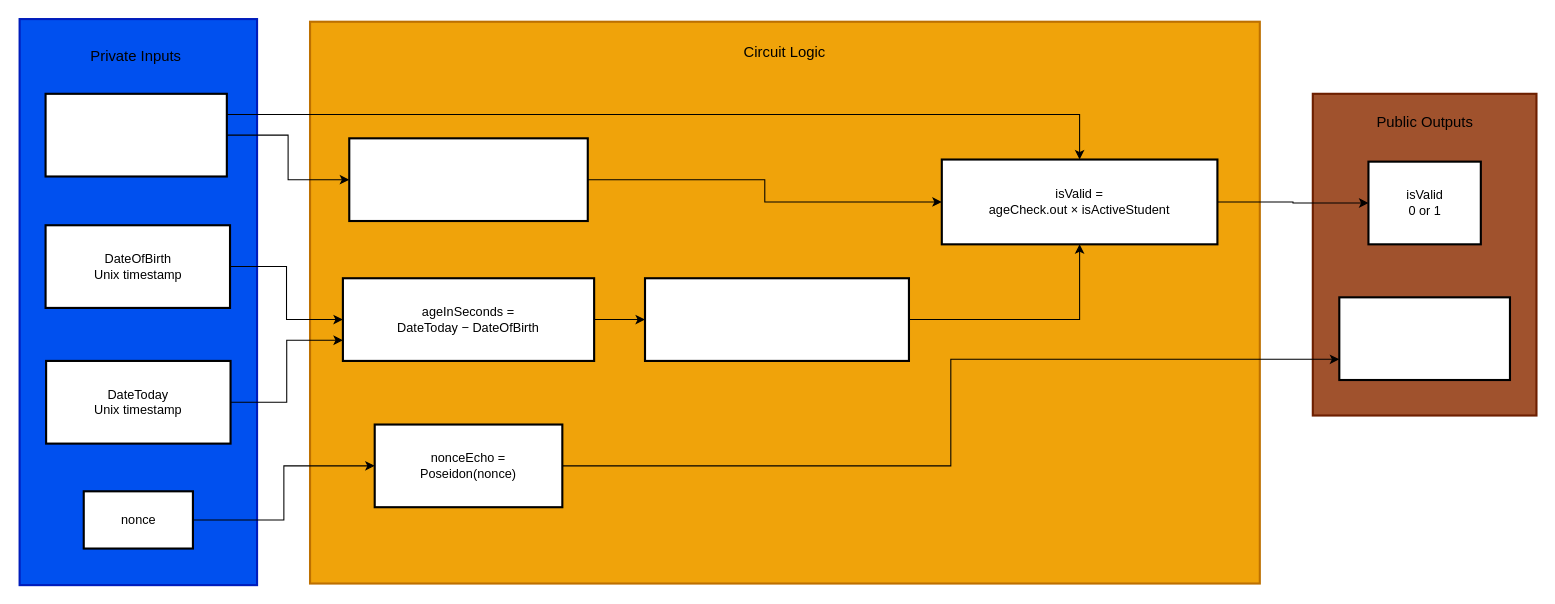
This 1555x604 diagram has some shape labels left out. Each missing label, with the box of its shape:
GreaterEqThan(64) ageInSeconds ≥ 567648000: (643, 277, 909, 361)
isActiveStudent 0 or 1: (44, 92, 227, 177)
isActiveStudent ∈ {0,1} x·(x−1) === 0: (348, 137, 588, 222)
nonceEcho Poseidon hash: (1338, 296, 1510, 381)
